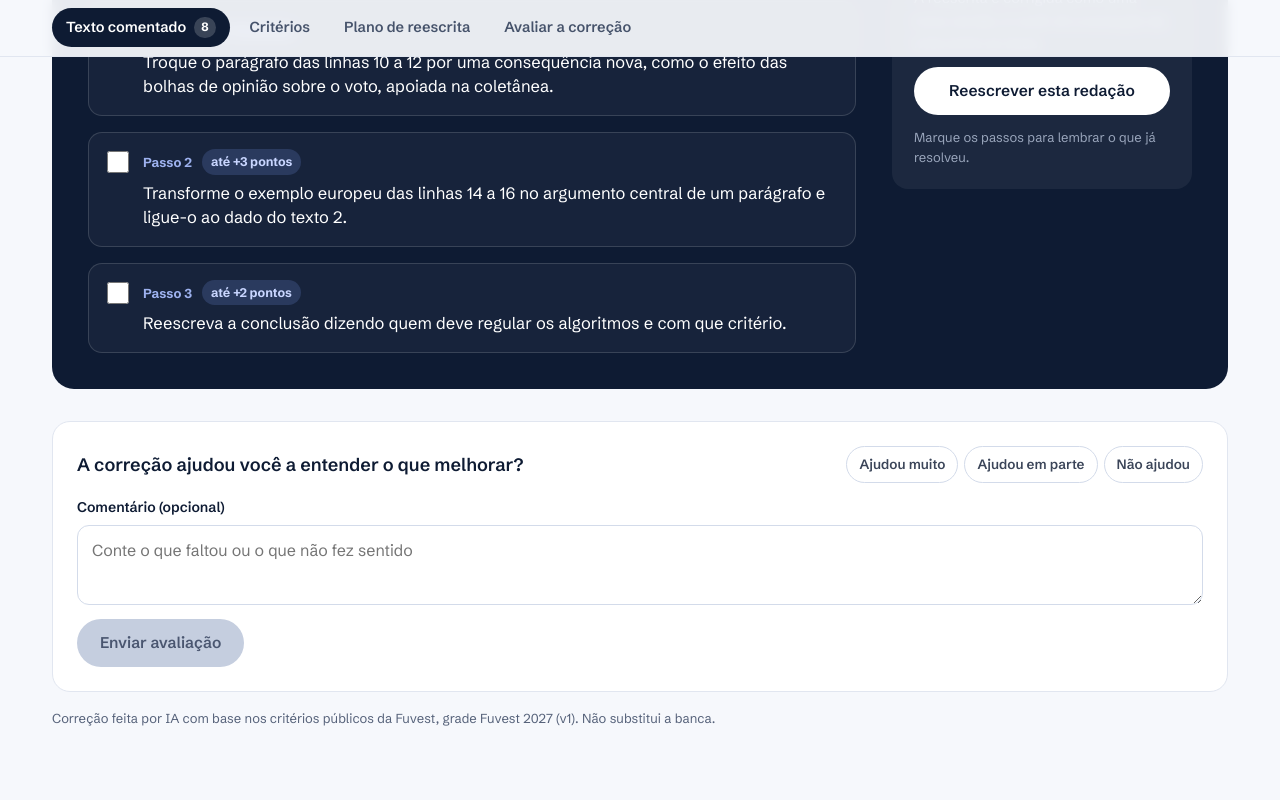
it: Correção › a avaliação exige uma das três opções e envia o comentário
(page scrolled)
expect the button "Enviar avaliação" is disabled: met, box [77,619,244,667]
expect the element named "A correção ajudou você a entender o que melhorar?" is shown: met, box [846,446,1203,483]
Click the radio button labelled "Não ajudou": (1153, 465) [1104,446,1203,483]
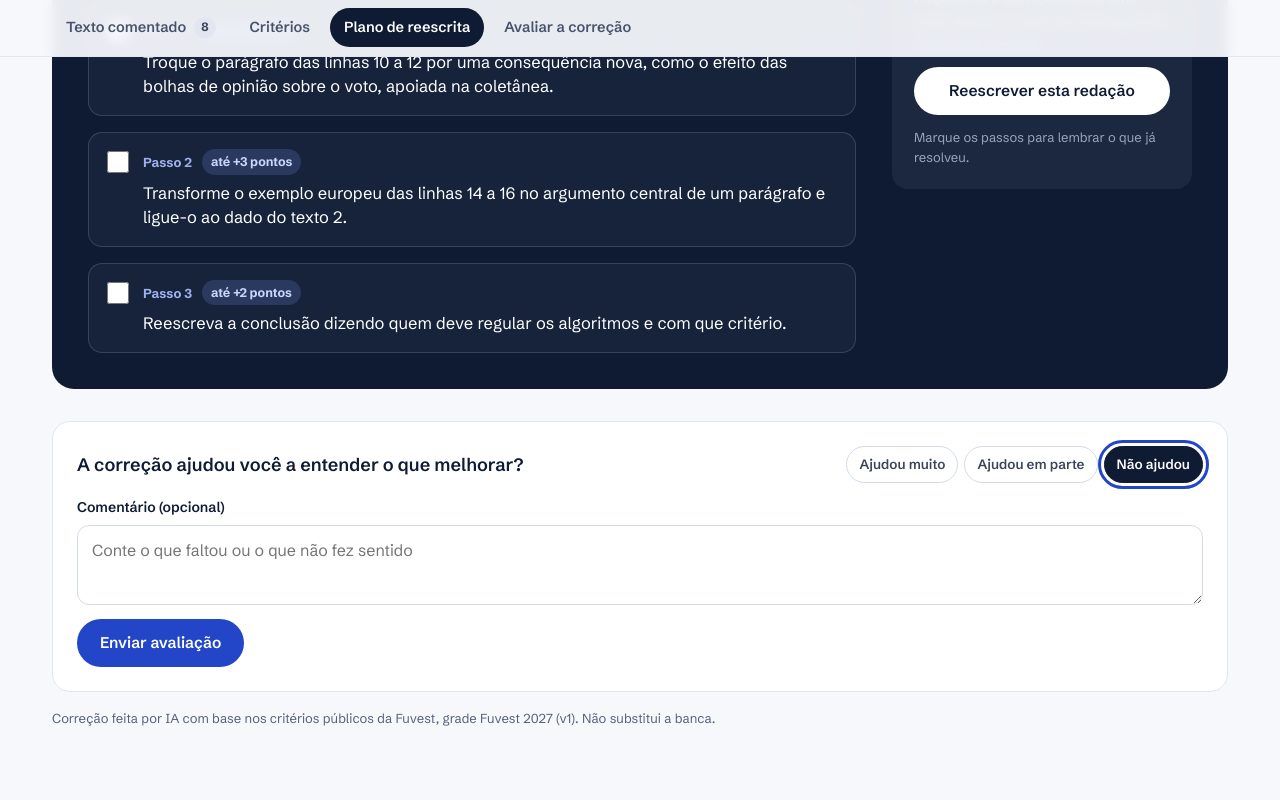
In the text box labelled "Comentário (opcional)": (640, 565) [77,525,1203,605], type "Faltou explicar a linha 14."
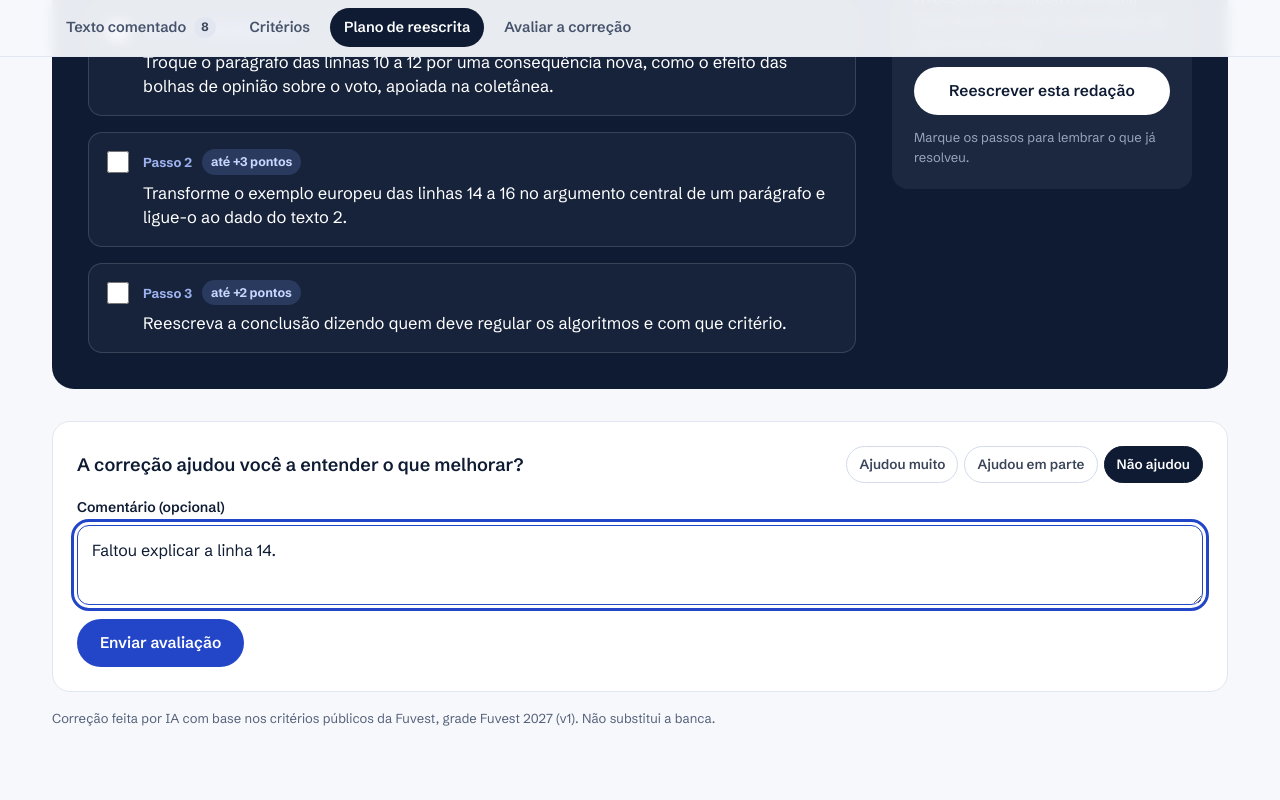
Click the button "Enviar avaliação": (161, 643) [77,619,244,667]
(page scrolled)
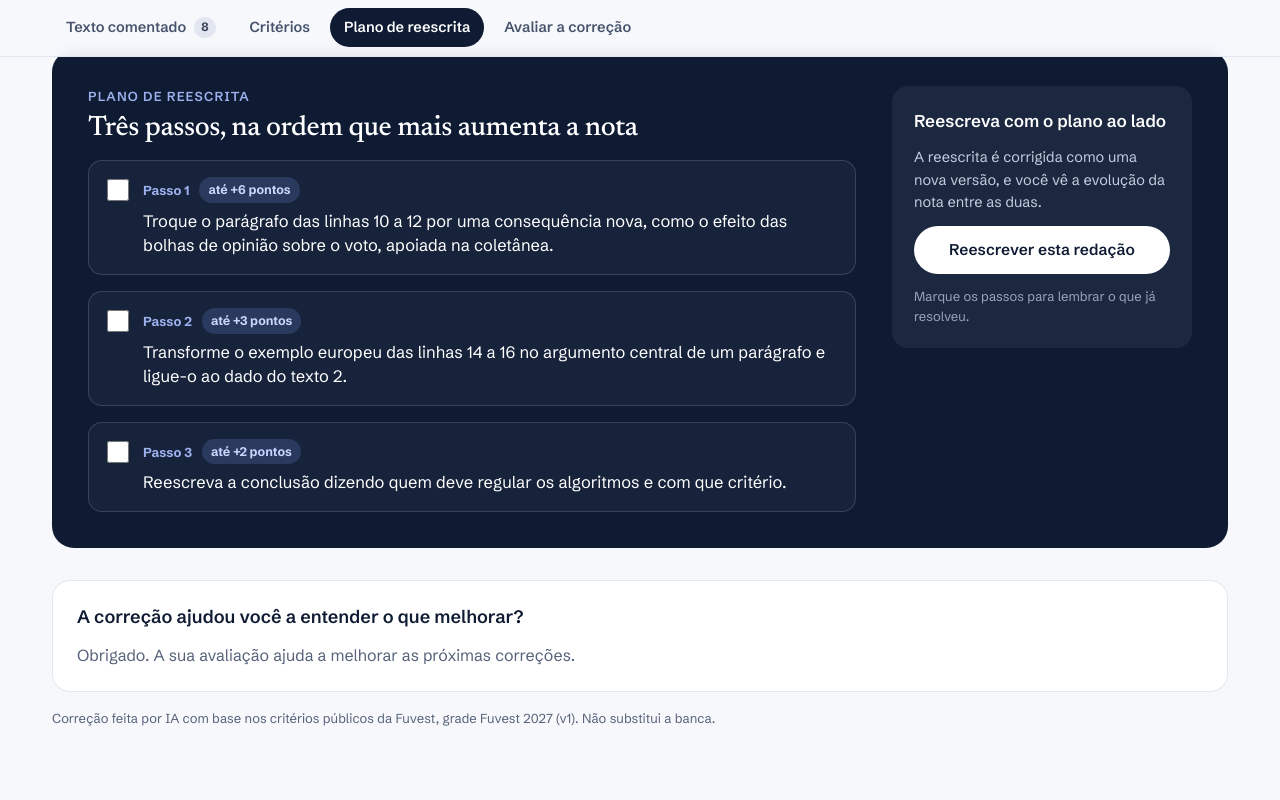
expect the text "Obrigado. A sua avaliação ajuda a melhorar as próximas correções." is shown: met, box [77,644,575,664]
